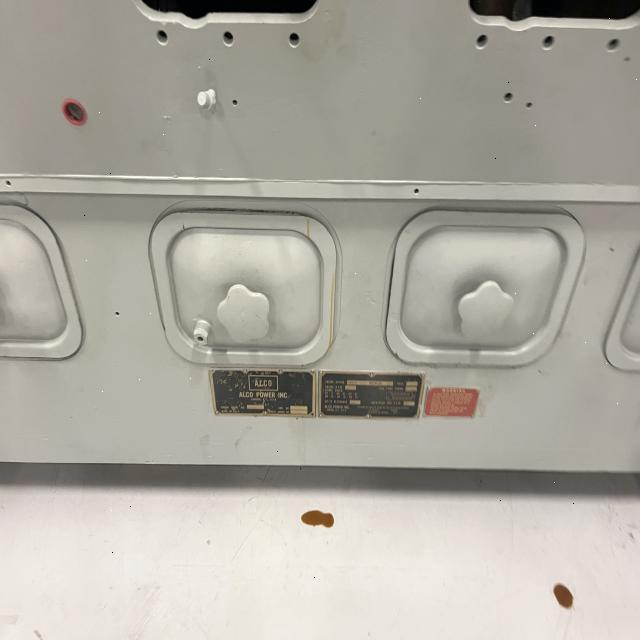Oil Leak: (303, 215, 342, 365), (301, 510, 334, 528), (553, 583, 573, 609)
